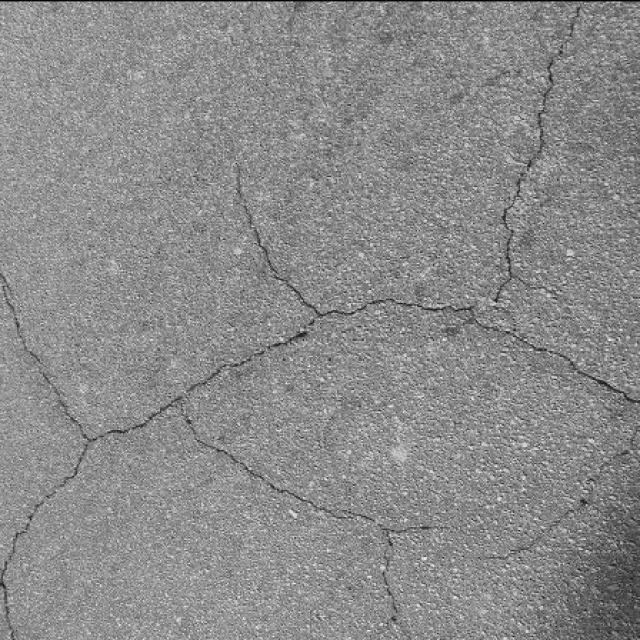Crack: (0, 0, 640, 631), (472, 429, 639, 558)
